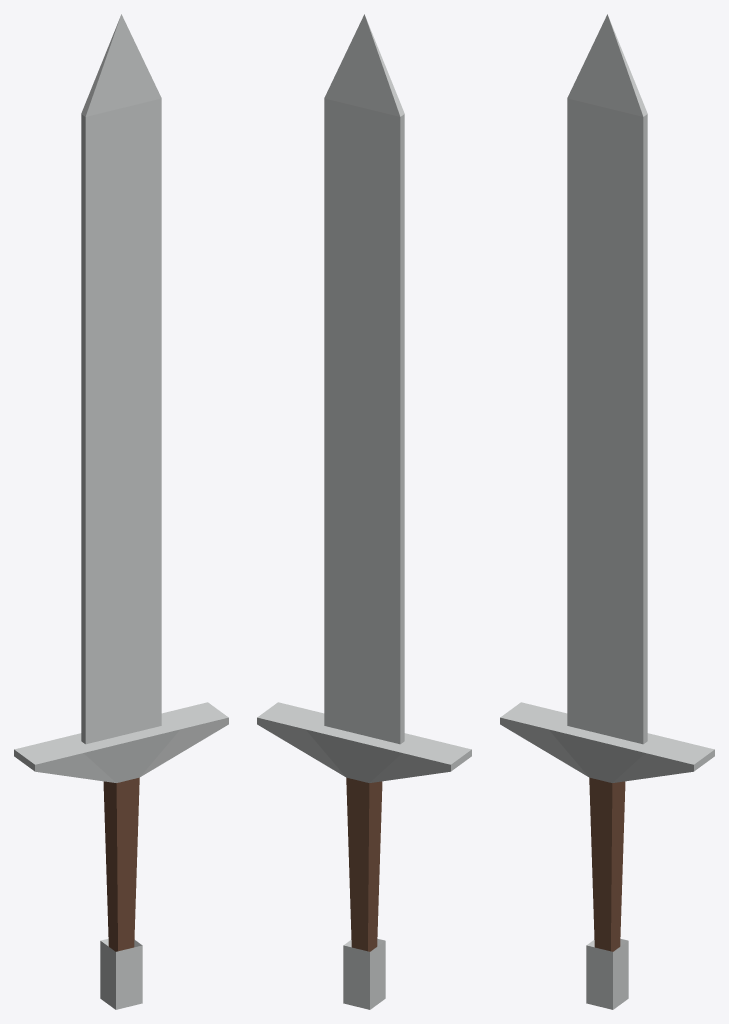
The model's file is Sword.fbx.
3 renders of one model, left to right at view 1: azimuth 30°, elevation 25°; view 2: azimuth 150°, elevation 25°; view 3: azimuth 330°, elevation 25°, orthographic.
Visible parts, largest first — view 1: Sword; view 2: Sword; view 3: Sword.
Part boxes in pixels (<box>): Sword: <box>14,14,228,1009</box>; Sword: <box>257,14,471,1009</box>; Sword: <box>500,14,714,1009</box>.
Bounding box in the file's own units: 148 × 719 × 27.7.
